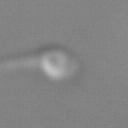normal: (1, 53, 39, 78)
